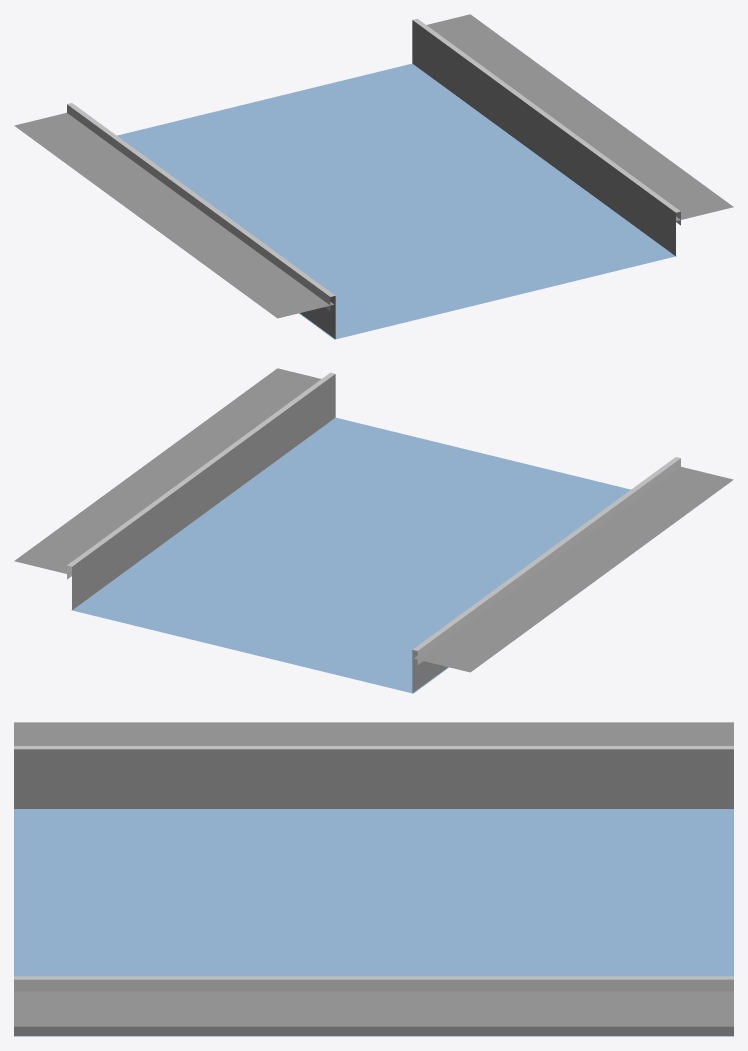
Rendered from dkLevelblend.glb.
The picture shows the model from 3 angles, top to bottom: view 1: azimuth 30°, elevation 25°; view 2: azimuth 150°, elevation 25°; view 3: azimuth 270°, elevation 25°; orthographic projection. The views are drawn at different scales.
Parts seen in each view (by area): view 1: road_tile_river_2x2_001.016; view 2: road_tile_river_2x2_001.016; view 3: road_tile_river_2x2_001.016.
Boxes of the visible parts, x1=… form: road_tile_river_2x2_001.016: x1=14, y1=14, x2=733, y2=339; road_tile_river_2x2_001.016: x1=14, y1=368, x2=733, y2=693; road_tile_river_2x2_001.016: x1=14, y1=722, x2=733, y2=1036.
Bounding box in the file's own units: 16 × 1.46 × 16.
1 material, 1 textured.
